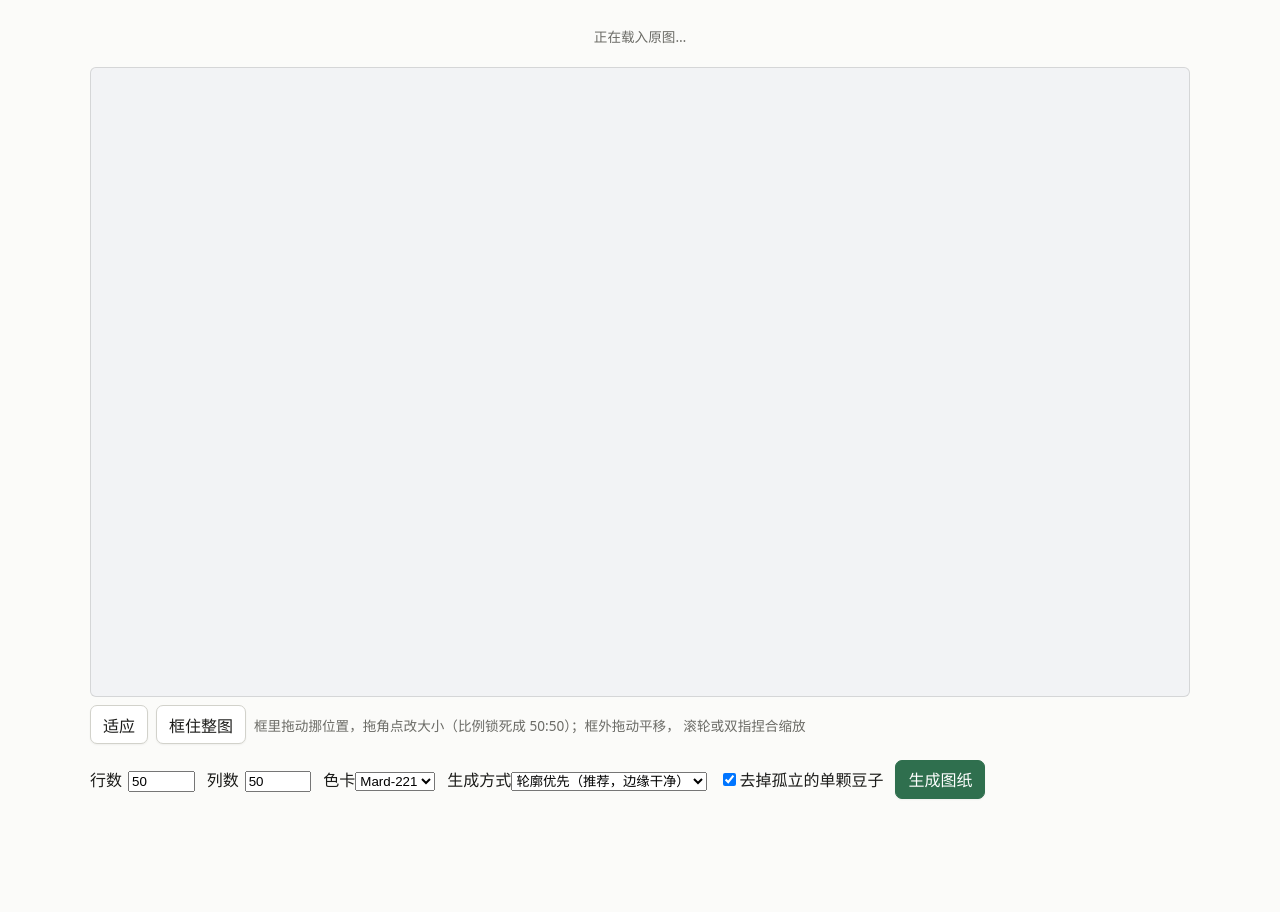
it: 行列数填 0 就不能生成
The image size is (1280, 912).
Step 1. Replace the text in the number field labelled "行数" with "0" → (161, 781), box [128,771,195,792]
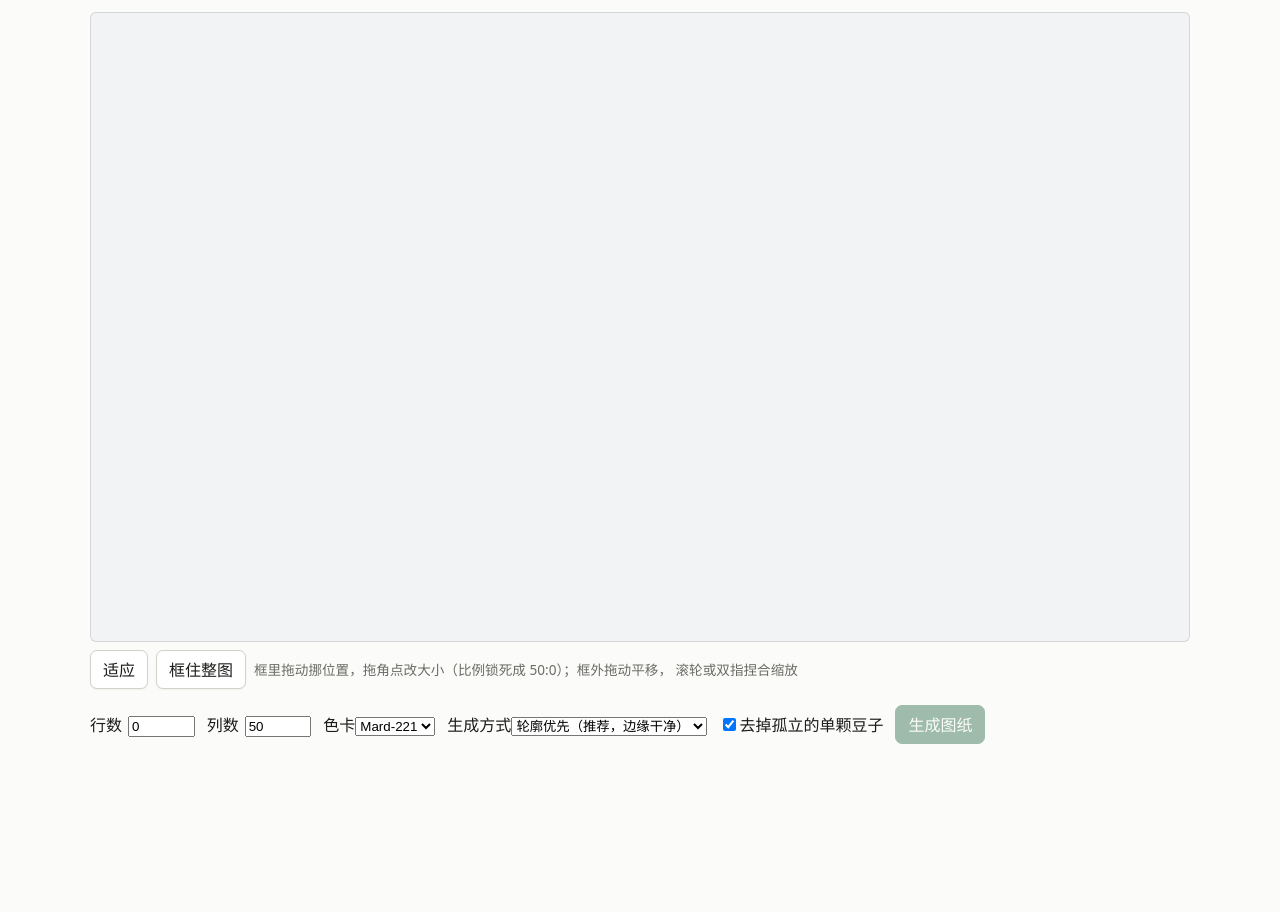
Expected: the button "生成图纸" is disabled, [895,705,985,744]
